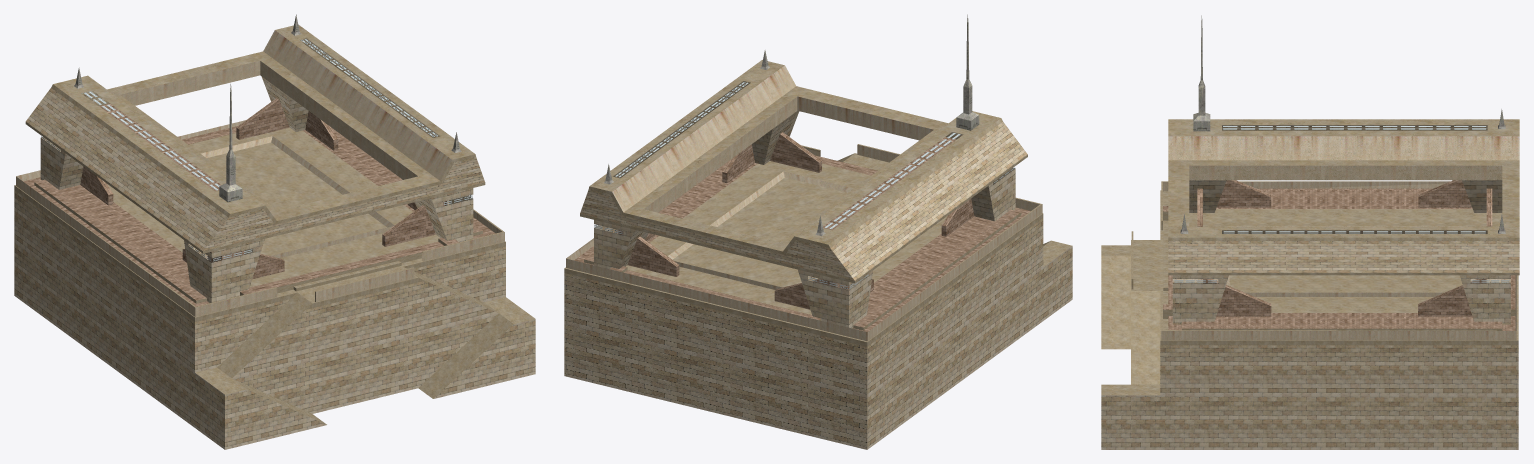
The model's file is ply_nboo_shuttleport_s01_l1.fbx.
The picture shows the model from 3 angles, left to right: view 1: azimuth 30°, elevation 25°; view 2: azimuth 150°, elevation 25°; view 3: azimuth 270°, elevation 25°; orthographic projection. The views are drawn at different scales.
Visible parts, largest first — view 1: mesh_node; view 2: mesh_node; view 3: mesh_node.
Boxes of the visible parts, bbox=[...] form: mesh_node: bbox=[14, 14, 535, 449]; mesh_node: bbox=[564, 14, 1072, 449]; mesh_node: bbox=[1101, 15, 1519, 449].
Size of the model in its own units: 31.92 by 31.06 by 37.6.
